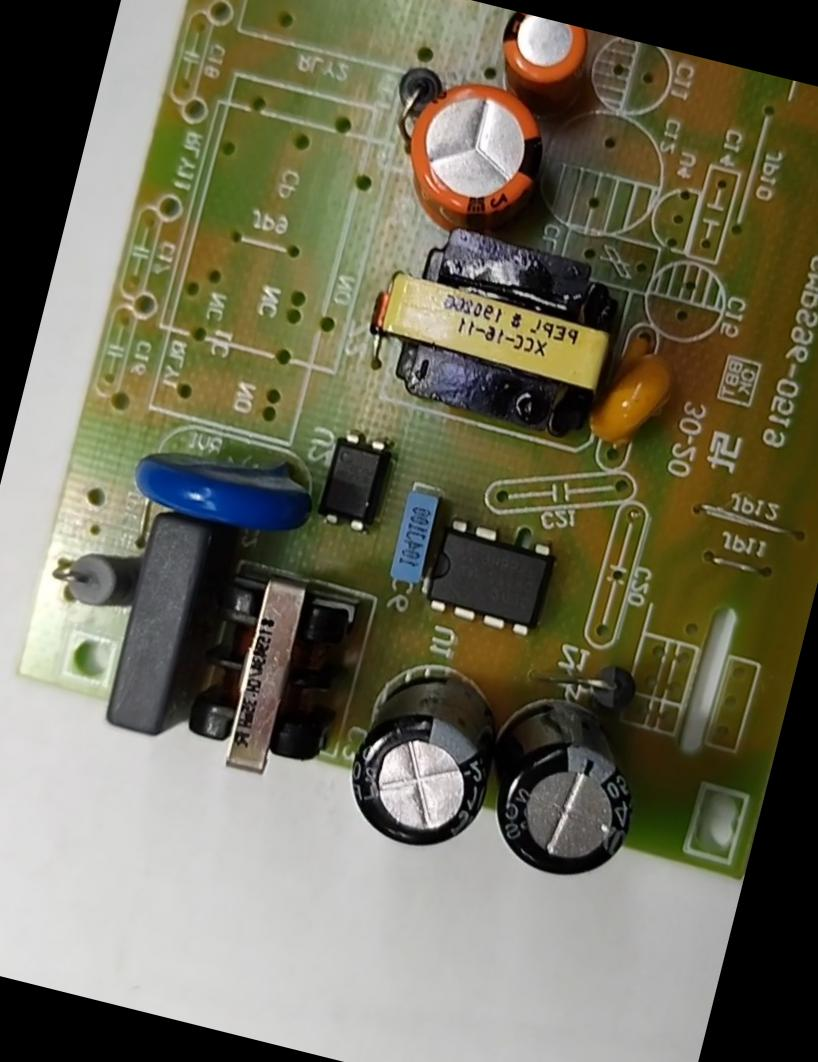Cap1: (382, 55, 577, 259)
Cap2: (466, 4, 612, 132)
Cap3: (324, 633, 523, 865)
Cap4: (449, 669, 665, 896)
MOSFET: (410, 497, 574, 652)
Mov: (121, 404, 332, 555)
Resistor: (40, 520, 144, 628)
Transformer: (348, 198, 654, 453), (159, 541, 377, 799)
